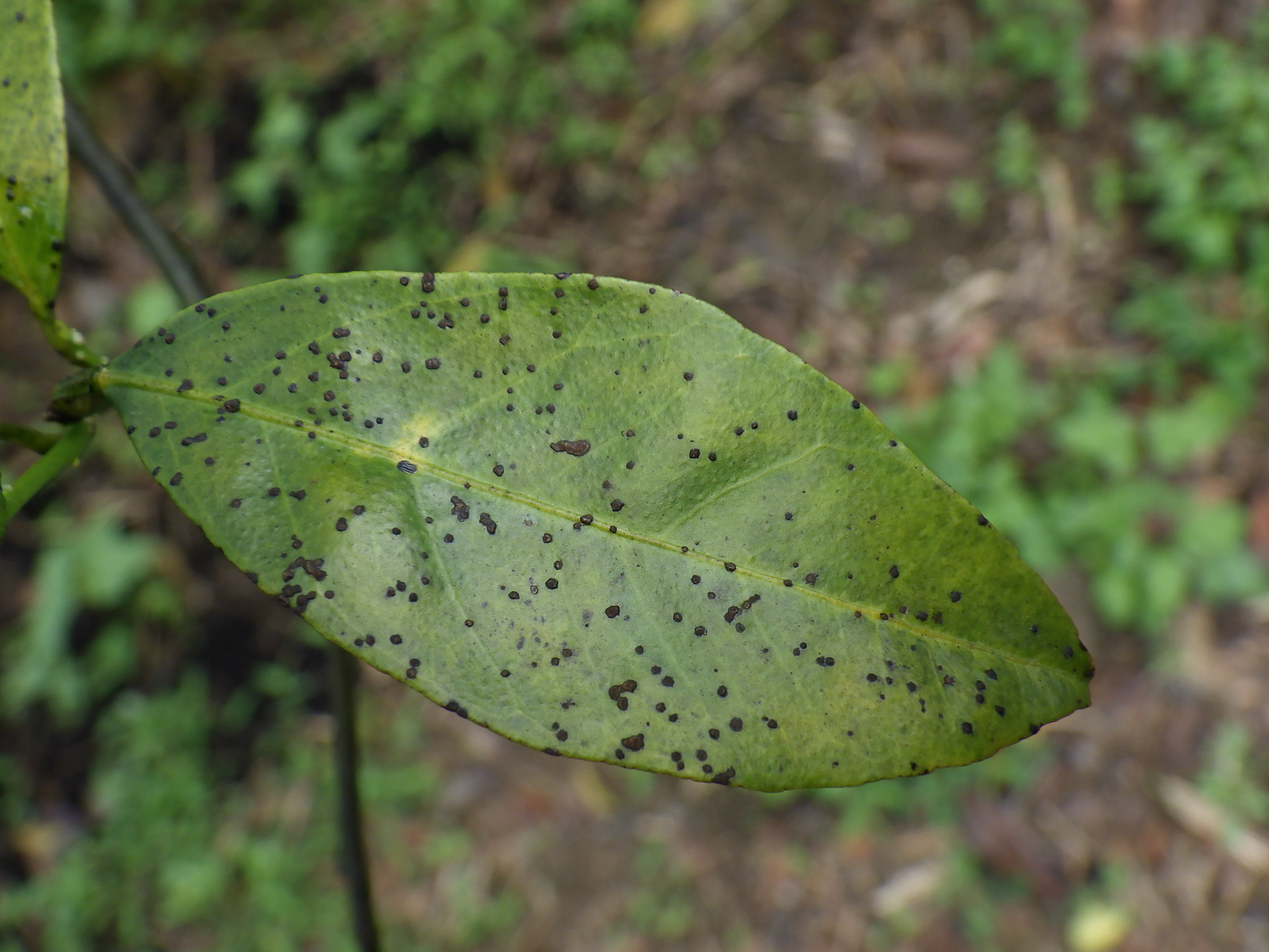Oily_Spot: (81, 270, 1091, 790)
